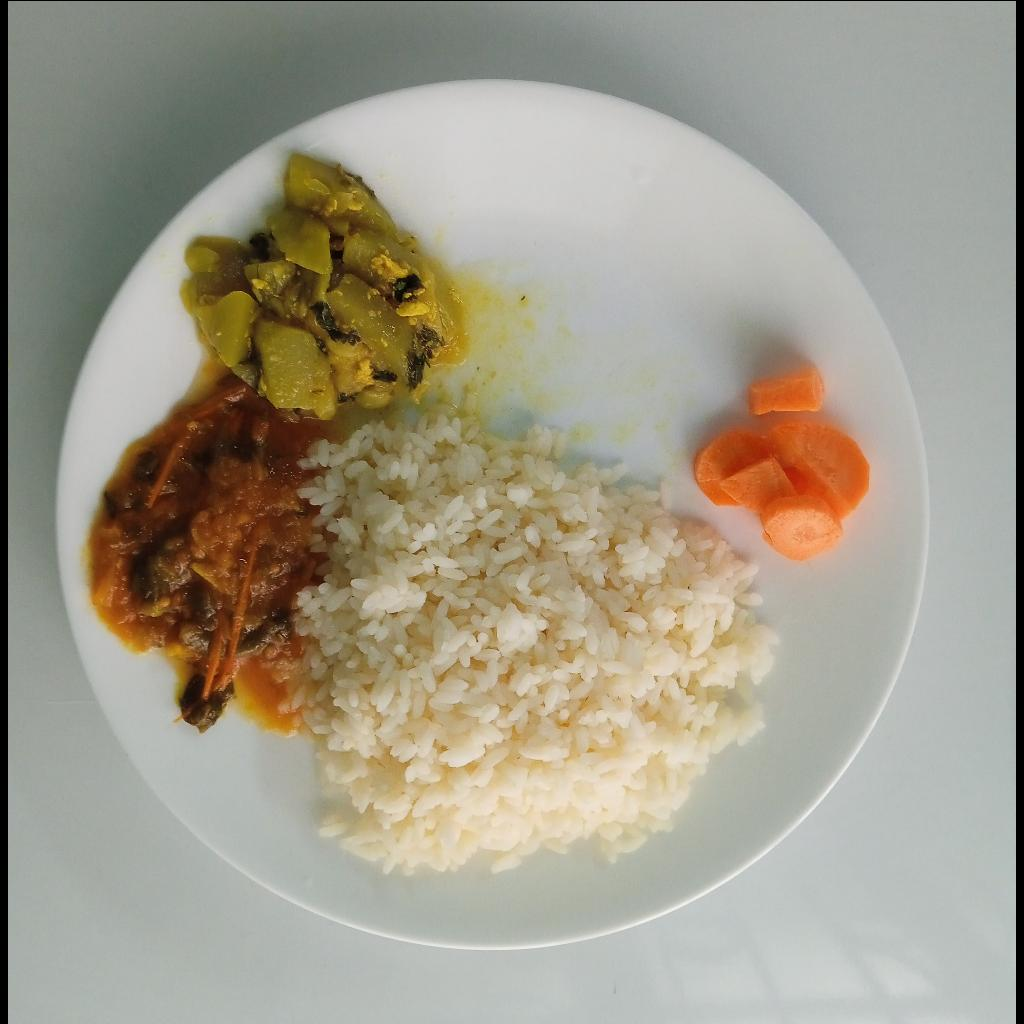carrot: (694, 358, 870, 566)
lau: (174, 151, 470, 418)
rice: (273, 407, 777, 877)
tomato: (89, 394, 312, 729)
